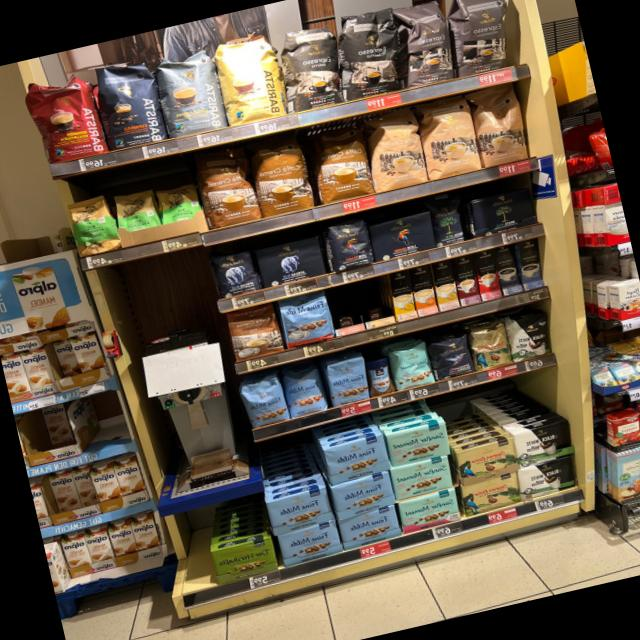AB Bohne: (212, 249, 260, 299)
AB Gemahlen: (255, 235, 327, 288)
Athiopien Bohne: (65, 192, 121, 258)
BM Bohne: (428, 192, 472, 246)
BM Gemahlen: (466, 186, 540, 238)
BW Bohne: (504, 308, 558, 362)
BW Gemahlen: (511, 418, 577, 468), (516, 454, 583, 502)
Barista CB: (209, 32, 289, 128)
Barista CC: (151, 44, 229, 140)
Barista Espresso: (90, 55, 168, 151)
Barista Kolumbien: (21, 70, 105, 166)
C Fino Bohne: (428, 329, 476, 382)
CC Mild: (358, 106, 429, 194), (413, 94, 482, 180), (466, 82, 534, 168)
CC Vollmundig: (224, 302, 286, 362)
CC Vollmundig 36 Pads: (246, 134, 316, 218), (305, 122, 375, 205), (194, 145, 260, 231)
Colombia BB Bohne: (466, 319, 514, 372)
Colombia BB Gemahlen: (453, 436, 522, 486), (457, 471, 524, 517)
Espresso Aromatisch: (389, 0, 461, 90), (440, 0, 521, 76)
Espresso Kraftig: (336, 6, 404, 101), (279, 20, 344, 113)
FM 36 Pads: (276, 290, 336, 349)
FM Bohne: (238, 374, 291, 430), (322, 353, 374, 408), (278, 364, 329, 418)
FM Gemahlen: (322, 432, 392, 484), (264, 484, 334, 535), (330, 469, 398, 519), (335, 502, 403, 550), (276, 518, 342, 566)
FM Instant: (362, 354, 396, 396)
Herzhatfe Mundig: (210, 534, 280, 585)
LG Bohne: (322, 215, 376, 272)
LG Gemahlen: (366, 209, 440, 262)
SM Bohne: (388, 340, 436, 390)
SM Gemahlen: (384, 419, 453, 467), (396, 486, 463, 533), (388, 454, 455, 500)
Simo CCMild bigpack: (388, 268, 416, 321)
Simo CCVollmundig bigpack: (409, 263, 438, 316)
Simo Decaff: (430, 259, 459, 311)
Simo Es Brazil: (473, 249, 502, 300)
Simo Es Caramel: (452, 253, 480, 306)
Simo Es Kraft: (493, 243, 522, 295)
Simo Es Vanilla: (518, 238, 544, 290)
